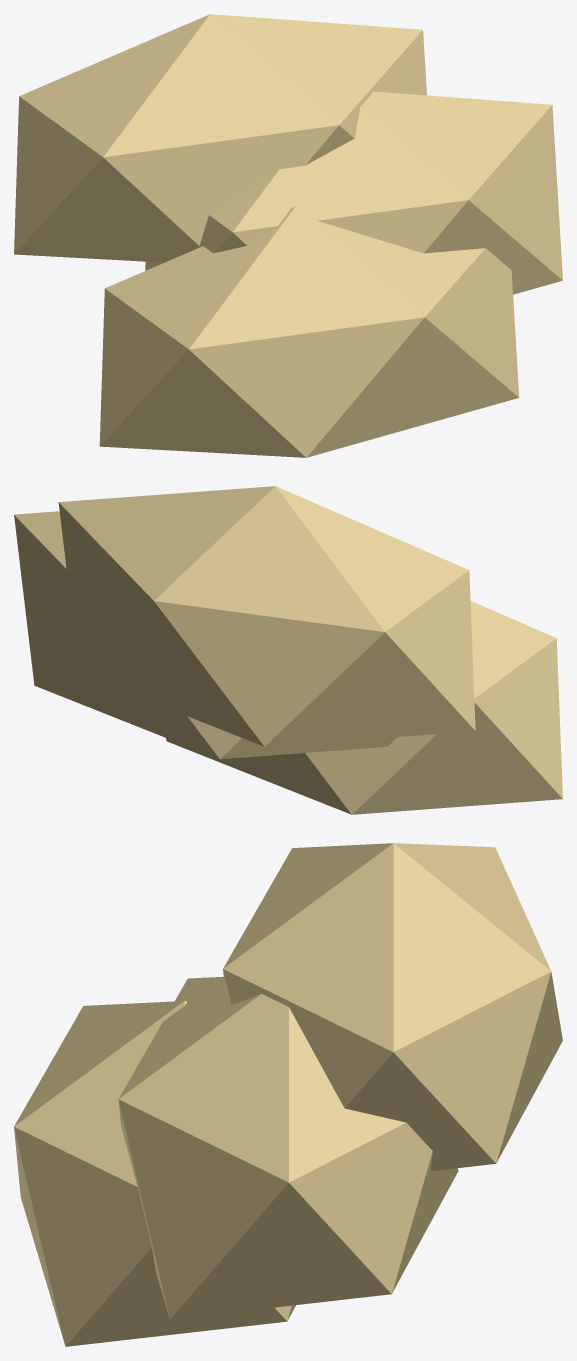
File: item_064_lentil_seed_m.glb
3 views of the same model, one above another, from view 1: azimuth 30°, elevation 25°; view 2: azimuth 150°, elevation 25°; view 3: azimuth 270°, elevation 25° (orthographic). The views are drawn at different scales.
Parts seen in each view (by area): view 1: item_064_lentil_seed_m; view 2: item_064_lentil_seed_m; view 3: item_064_lentil_seed_m.
Boxes of the visible parts, x1,y1,x2,y2 form: item_064_lentil_seed_m: (14, 14, 562, 457); item_064_lentil_seed_m: (14, 486, 562, 814); item_064_lentil_seed_m: (14, 843, 562, 1346).
Size of the model in its own units: 0.4008 by 0.2925 by 0.3153.
